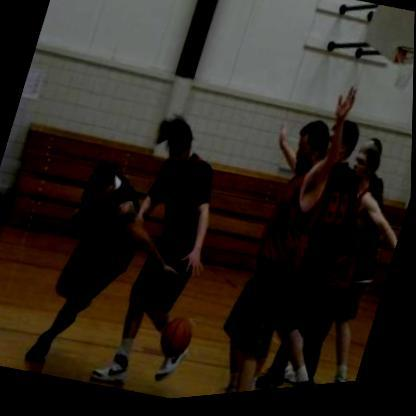basketball: (155, 313, 202, 369)
